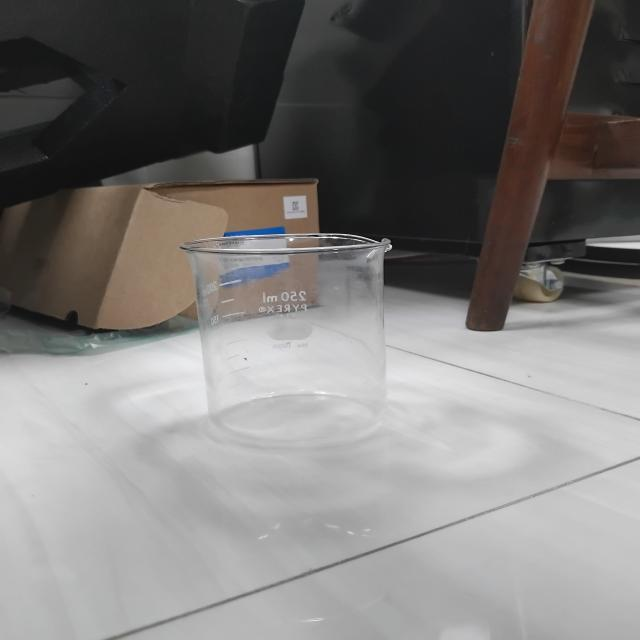Beaker: (161, 212, 428, 472)
